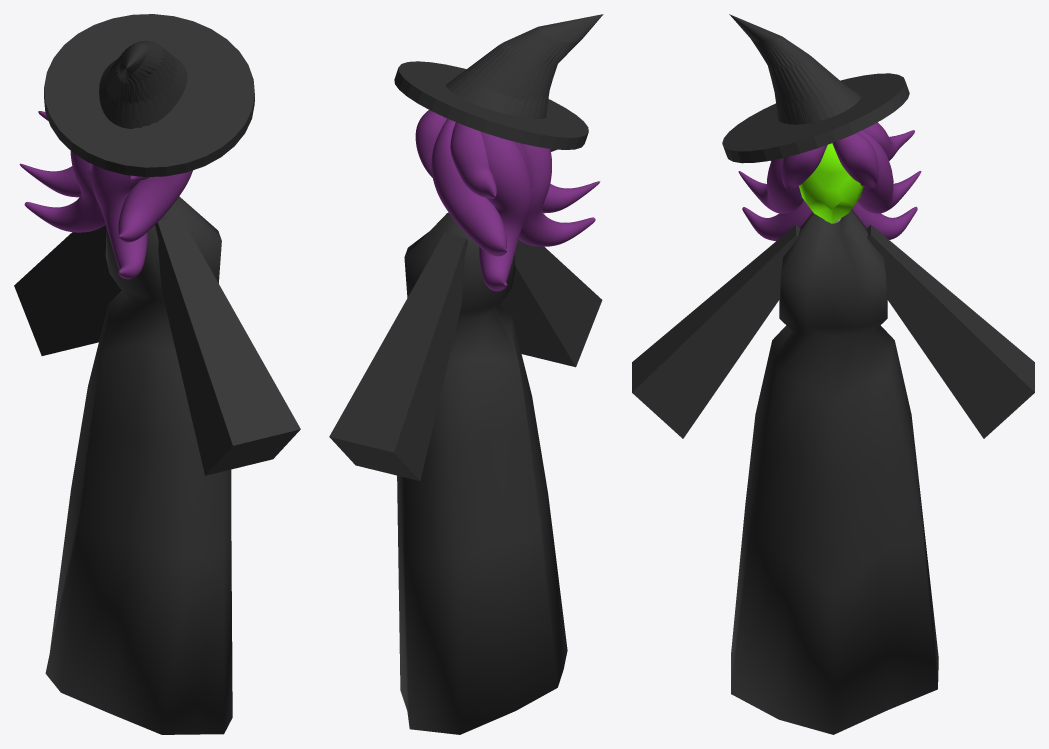
The model's file is ведьма.fbx.
The picture shows the model from 3 angles, left to right: view 1: azimuth 30°, elevation 25°; view 2: azimuth 150°, elevation 25°; view 3: azimuth 270°, elevation 25°; orthographic projection. The views are drawn at different scales.
Visible parts, largest first — view 1: Cube.001, Cube.002, Cylinder, Tube.003, Cone; view 2: Cube.001, Cube.002, Tube.003, Cone, Cylinder; view 3: Cube.001, Cube.002, Tube.003, Cylinder, Cone, Icosphere.
Boxes of the visible parts, bbox=[...] form: Cube.001: bbox=[45, 196, 232, 734]; Cube.002: bbox=[14, 216, 300, 475]; Cylinder: bbox=[44, 14, 254, 176]; Tube.003: bbox=[19, 111, 192, 279]; Cone: bbox=[99, 40, 187, 128]; Cube.001: bbox=[397, 212, 567, 734]; Cube.002: bbox=[329, 233, 602, 480]; Tube.003: bbox=[415, 110, 600, 291]; Cone: bbox=[446, 14, 603, 118]; Cylinder: bbox=[394, 61, 588, 149]; Cube.001: bbox=[731, 209, 938, 734]; Cube.002: bbox=[632, 225, 1034, 438]; Tube.003: bbox=[738, 122, 921, 241]; Cylinder: bbox=[722, 73, 909, 163]; Cone: bbox=[729, 14, 860, 124]; Icosphere: bbox=[799, 143, 863, 223].
Bounding box in the file's own units: 113 × 419 × 235.
